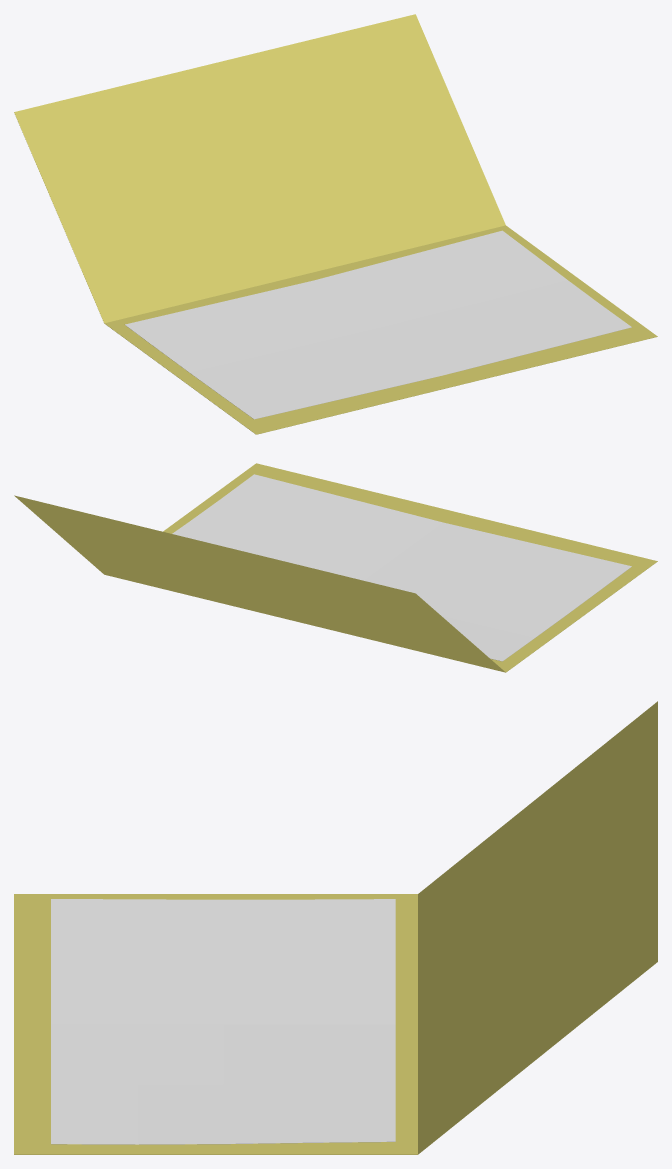
File: FolderconPapelBlanco.fbx
The picture shows the model from 3 angles, top to bottom: view 1: azimuth 30°, elevation 25°; view 2: azimuth 150°, elevation 25°; view 3: azimuth 270°, elevation 25°; orthographic projection. The views are drawn at different scales.
Parts seen in each view (by area): view 1: Plane; view 2: Plane; view 3: Plane.
Part boxes in pixels (x1,y1,x2,y2): Plane: (14, 14, 657, 434); Plane: (14, 463, 657, 672); Plane: (14, 701, 657, 1154).
Size of the model in its own units: 213 by 73.51 by 222.
